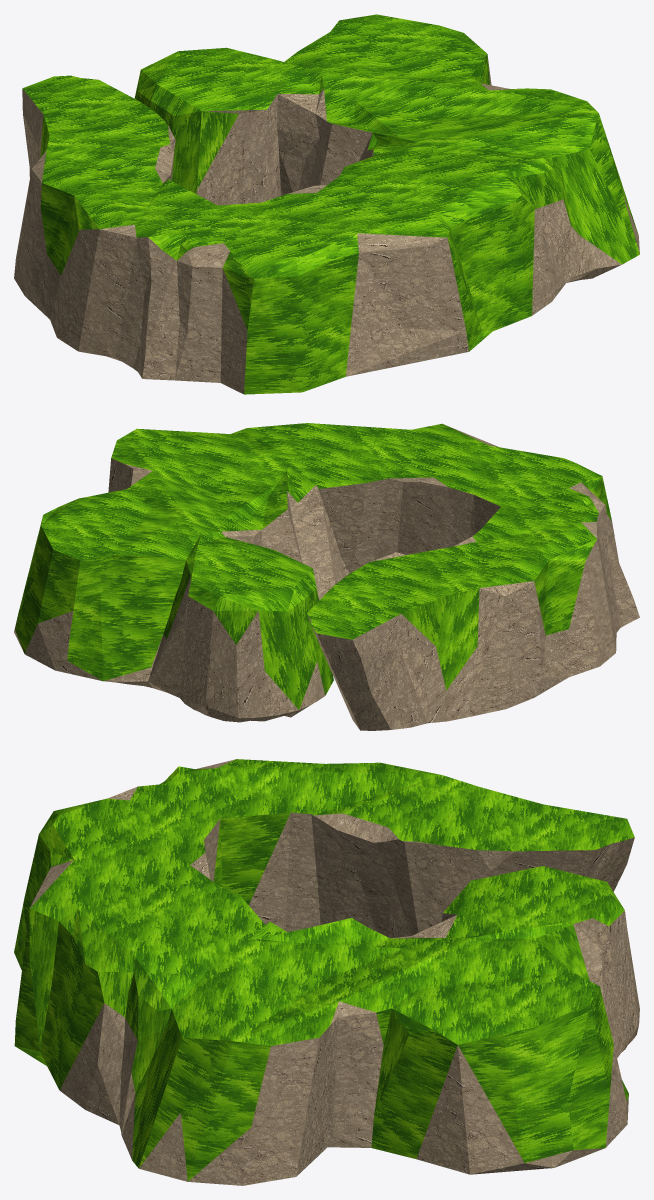
The model's file is hub_map.glb.
The picture shows the model from 3 angles, top to bottom: view 1: azimuth 30°, elevation 25°; view 2: azimuth 150°, elevation 25°; view 3: azimuth 270°, elevation 25°; orthographic projection. The views are drawn at different scales.
Visible parts, largest first — view 1: Plane.008; view 2: Plane.008; view 3: Plane.008.
Part boxes in pixels (x1,y1,x2,y2): Plane.008: (14, 14, 639, 394); Plane.008: (14, 423, 639, 730); Plane.008: (14, 759, 639, 1185).
Bounding box in the file's own units: 294 × 66.88 × 256.
2 materials, 2 textured.
